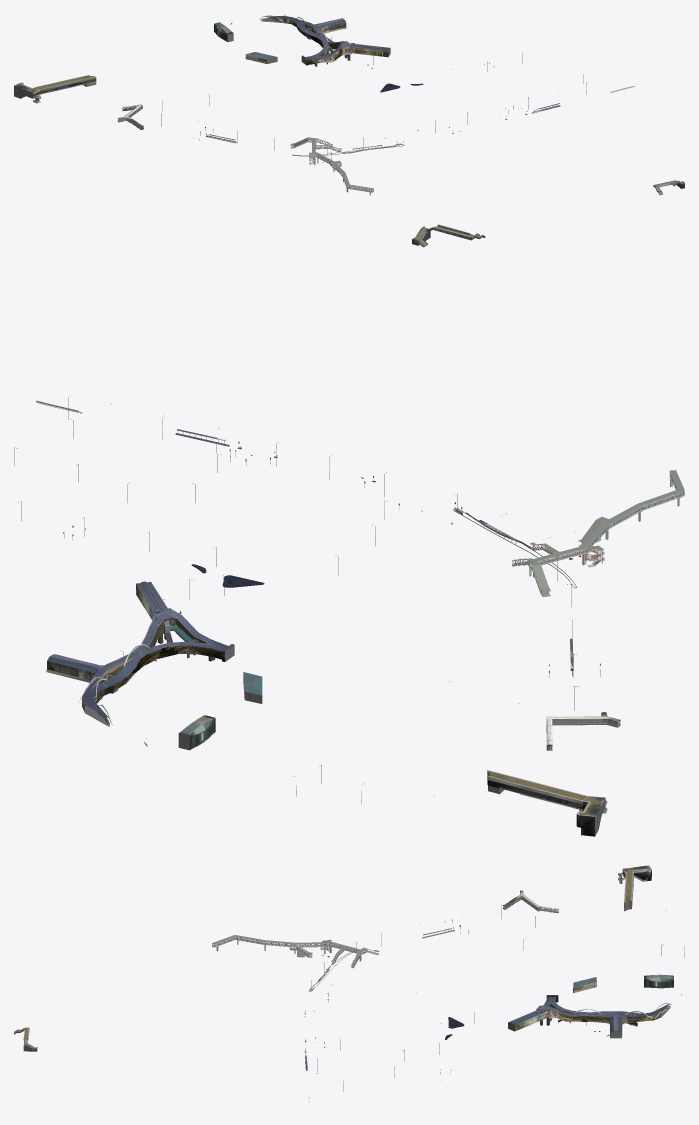
Rendered from context.glb.
3 views of the same model, one above another, from view 1: azimuth 30°, elevation 25°; view 2: azimuth 150°, elevation 25°; view 3: azimuth 270°, elevation 25° (orthographic). The views are drawn at different scales.
Parts seen in each view (by area): view 1: I399521645303063A1, I397501620001062A1, I396851646203063A0, Connected canopy | main bridge stairs and escalators, I399871637003063A1, I397331636603063A0; view 2: I399521645303063A1, Connected canopy | main bridge stairs and escalators, I396851646203063A0, I397501620001062A1, I397331636603063A0; view 3: I399521645303063A1, Connected canopy | main bridge stairs and escalators, I397501620001062A1, I396851646203063A0, I399871637003063A1, I399071648503063A0.
Part boxes in pixels (<box>): I399521645303063A1: <box>259,15,351,66</box>; I397501620001062A1: <box>161,37,634,162</box>; I396851646203063A0: <box>14,75,96,103</box>; Connected canopy | main bridge stairs and escalators: <box>290,137,373,195</box>; I399871637003063A1: <box>349,43,390,57</box>; I397331636603063A0: <box>117,104,143,129</box>; I399521645303063A1: <box>46,608,234,726</box>; Connected canopy | main bridge stairs and escalators: <box>512,470,684,594</box>; I396851646203063A0: <box>487,770,607,836</box>; I397501620001062A1: <box>14,395,600,803</box>; I397331636603063A0: <box>546,712,620,750</box>; I399521645303063A1: <box>536,995,671,1038</box>; Connected canopy | main bridge stairs and escalators: <box>212,935,379,968</box>; I397501620001062A1: <box>304,905,684,1102</box>; I396851646203063A0: <box>618,865,651,911</box>; I399871637003063A1: <box>508,1009,548,1031</box>; I399071648503063A0: <box>644,974,673,988</box>.
Size of the model in its own units: 487 by 36.66 by 563.
57 materials, 42 textured.
